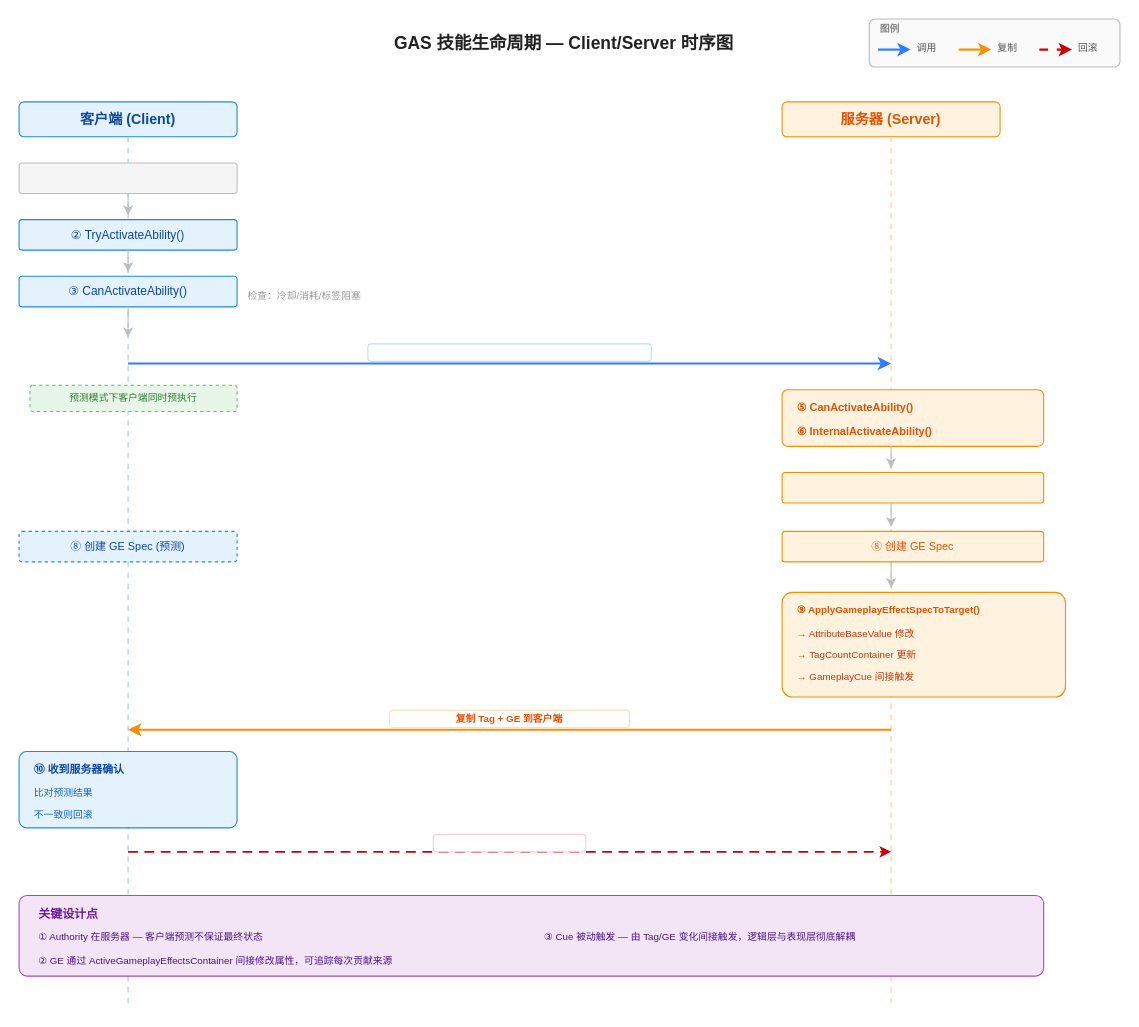
The diagram is 1139 pixels wide and 1027 high, and some of its shapes have lost their labels. The shapes that lost their labels are listed below. From the top down, each one's box as (x1, y1, x2, y2) in pixels, then its label:
(18, 162, 237, 193): ① 玩家按下技能键
(367, 343, 651, 361): ④ CallServerTryActivateAbility (RPC)
(781, 471, 1044, 503): ⑦ GA::ActivateAbility()
(432, 833, 586, 852): 校验失败 → 回滚
